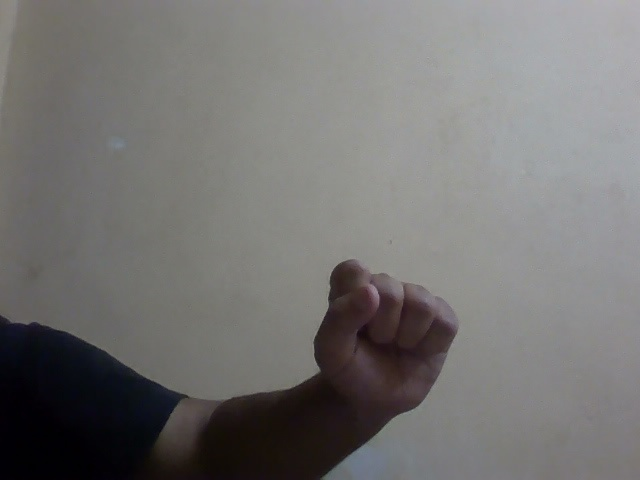Yes: (265, 233, 497, 448)
